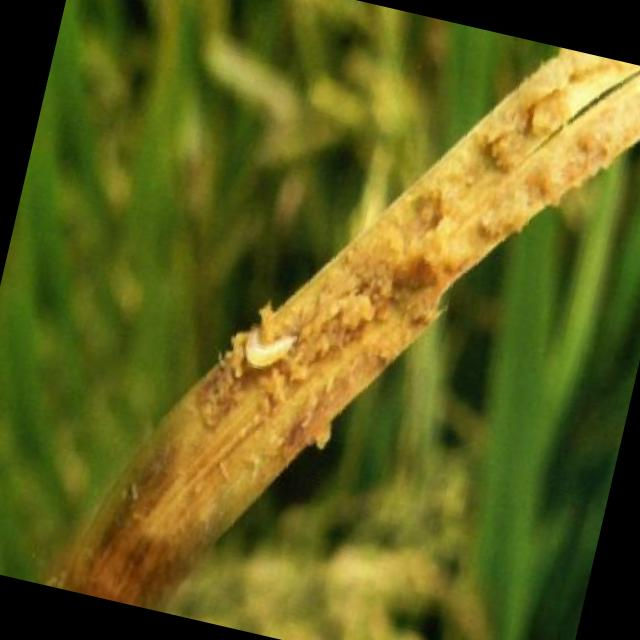whorl-maggot: (233, 309, 310, 382)
